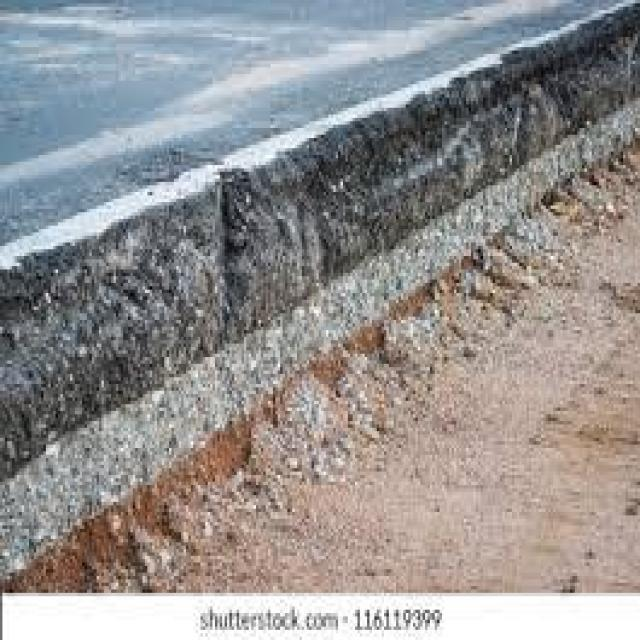curb: (1, 10, 640, 581)
